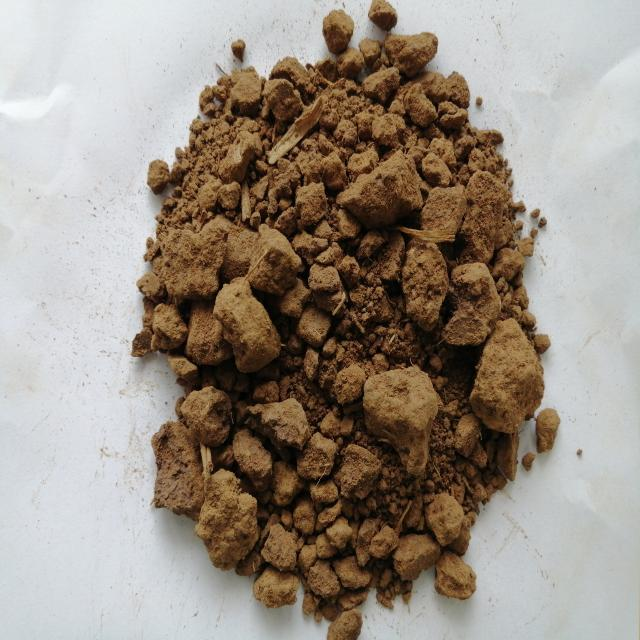soil: (169, 118, 512, 548)
